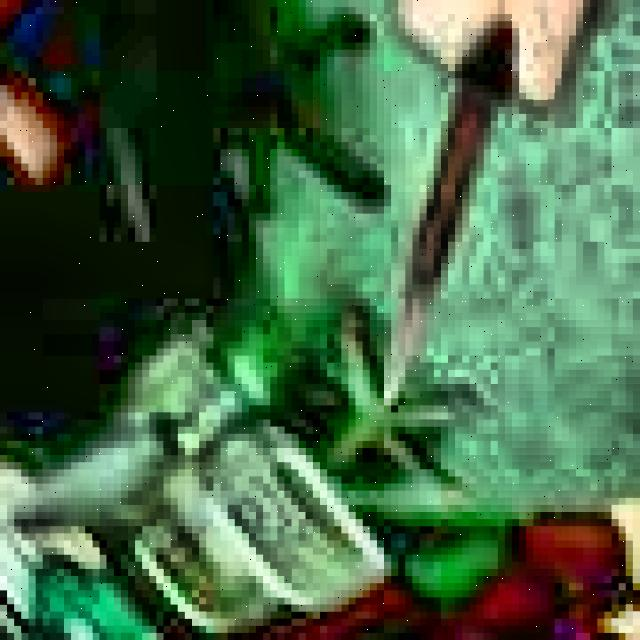knife: (380, 29, 512, 414)
